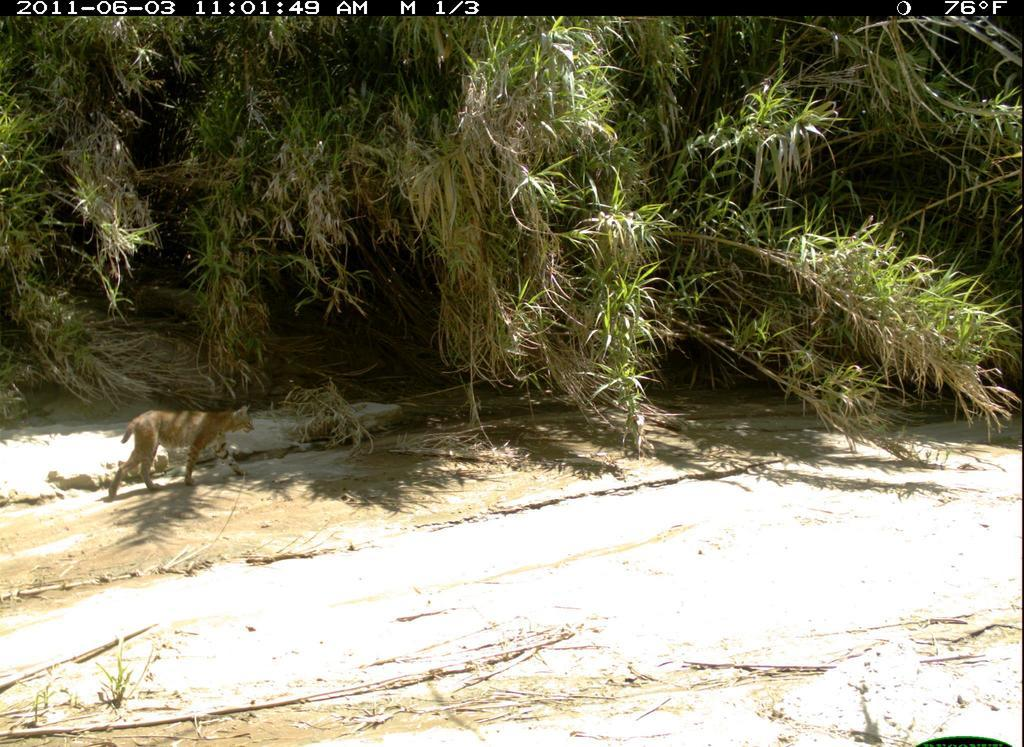bobcat: (105, 401, 259, 505)
